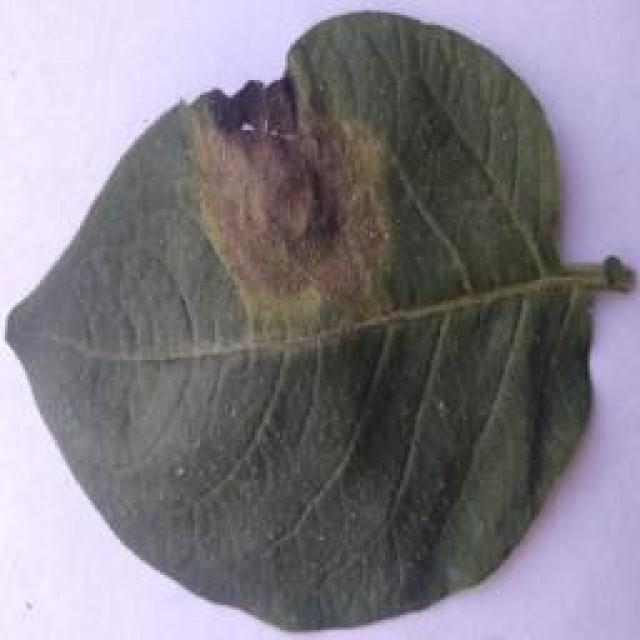Potato_Late_Blight: (4, 9, 634, 632)
